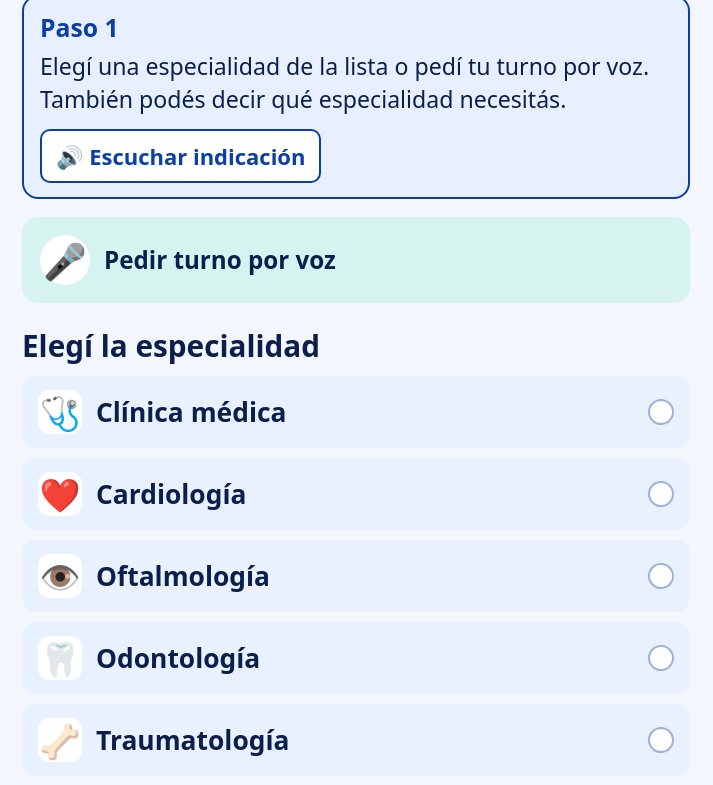
Test: Pedir turno a mano › no deja avanzar hasta elegir una especialidad
Click the radio button labelled "❤️ Cardiología". click: (60, 494)
box: top-left (22, 458), bottom-right (690, 530)
(page scrolled)
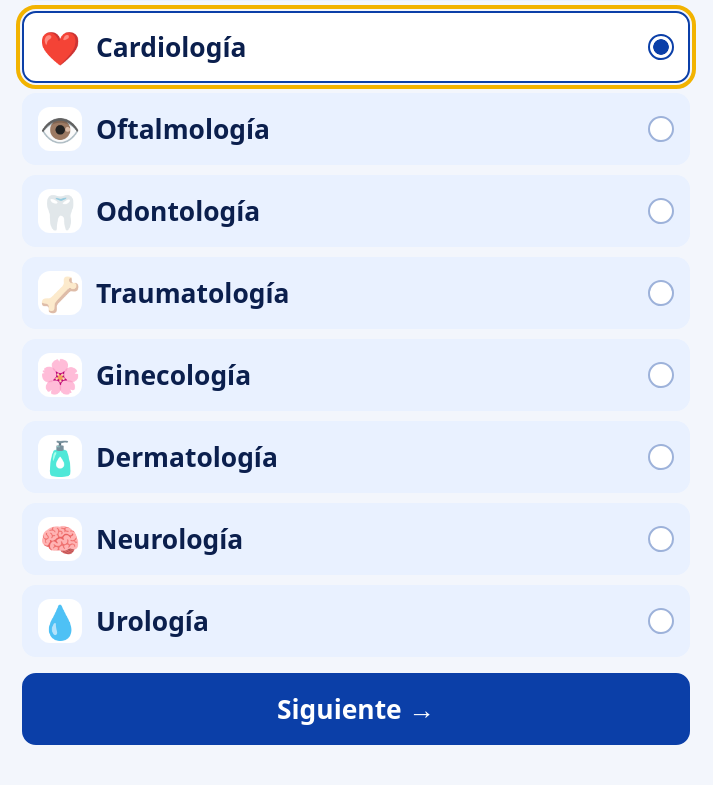
Result: the button "Siguiente →" is enabled
Click the button "Siguiente →". click: (356, 709)
box: top-left (22, 673), bottom-right (690, 745)
(page scrolled)
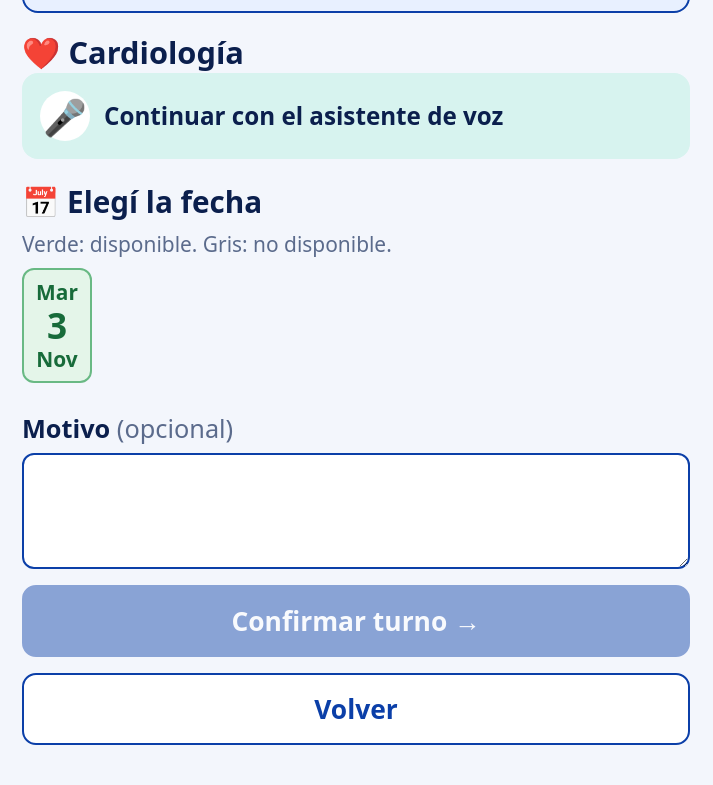
Result: the heading "📅 Elegí la fecha" is shown at top-left (22, 181), bottom-right (262, 222)
